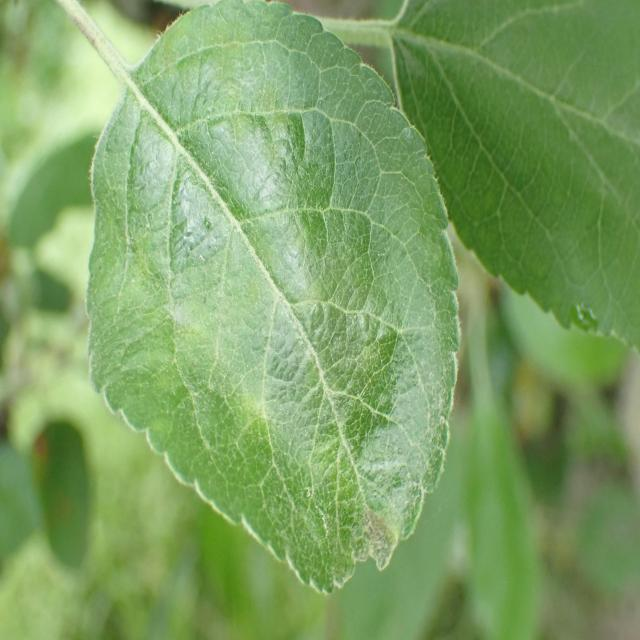scab: (107, 51, 396, 566)
